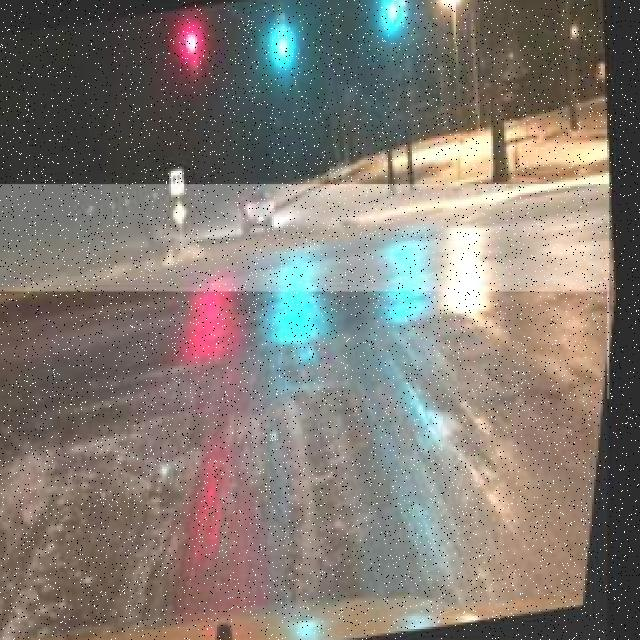ice-road: (0, 293, 607, 640), (0, 186, 609, 397)
